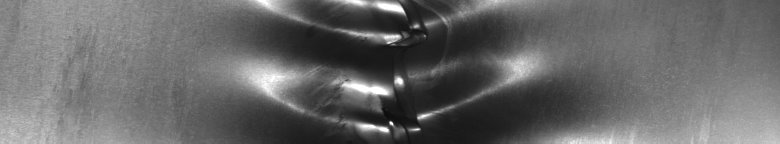ke: (262, 4, 514, 136)
